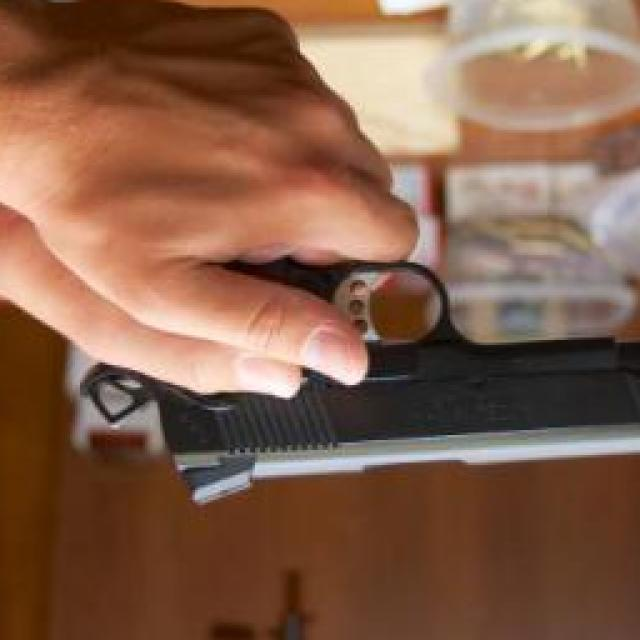pistol: (70, 240, 640, 505)
